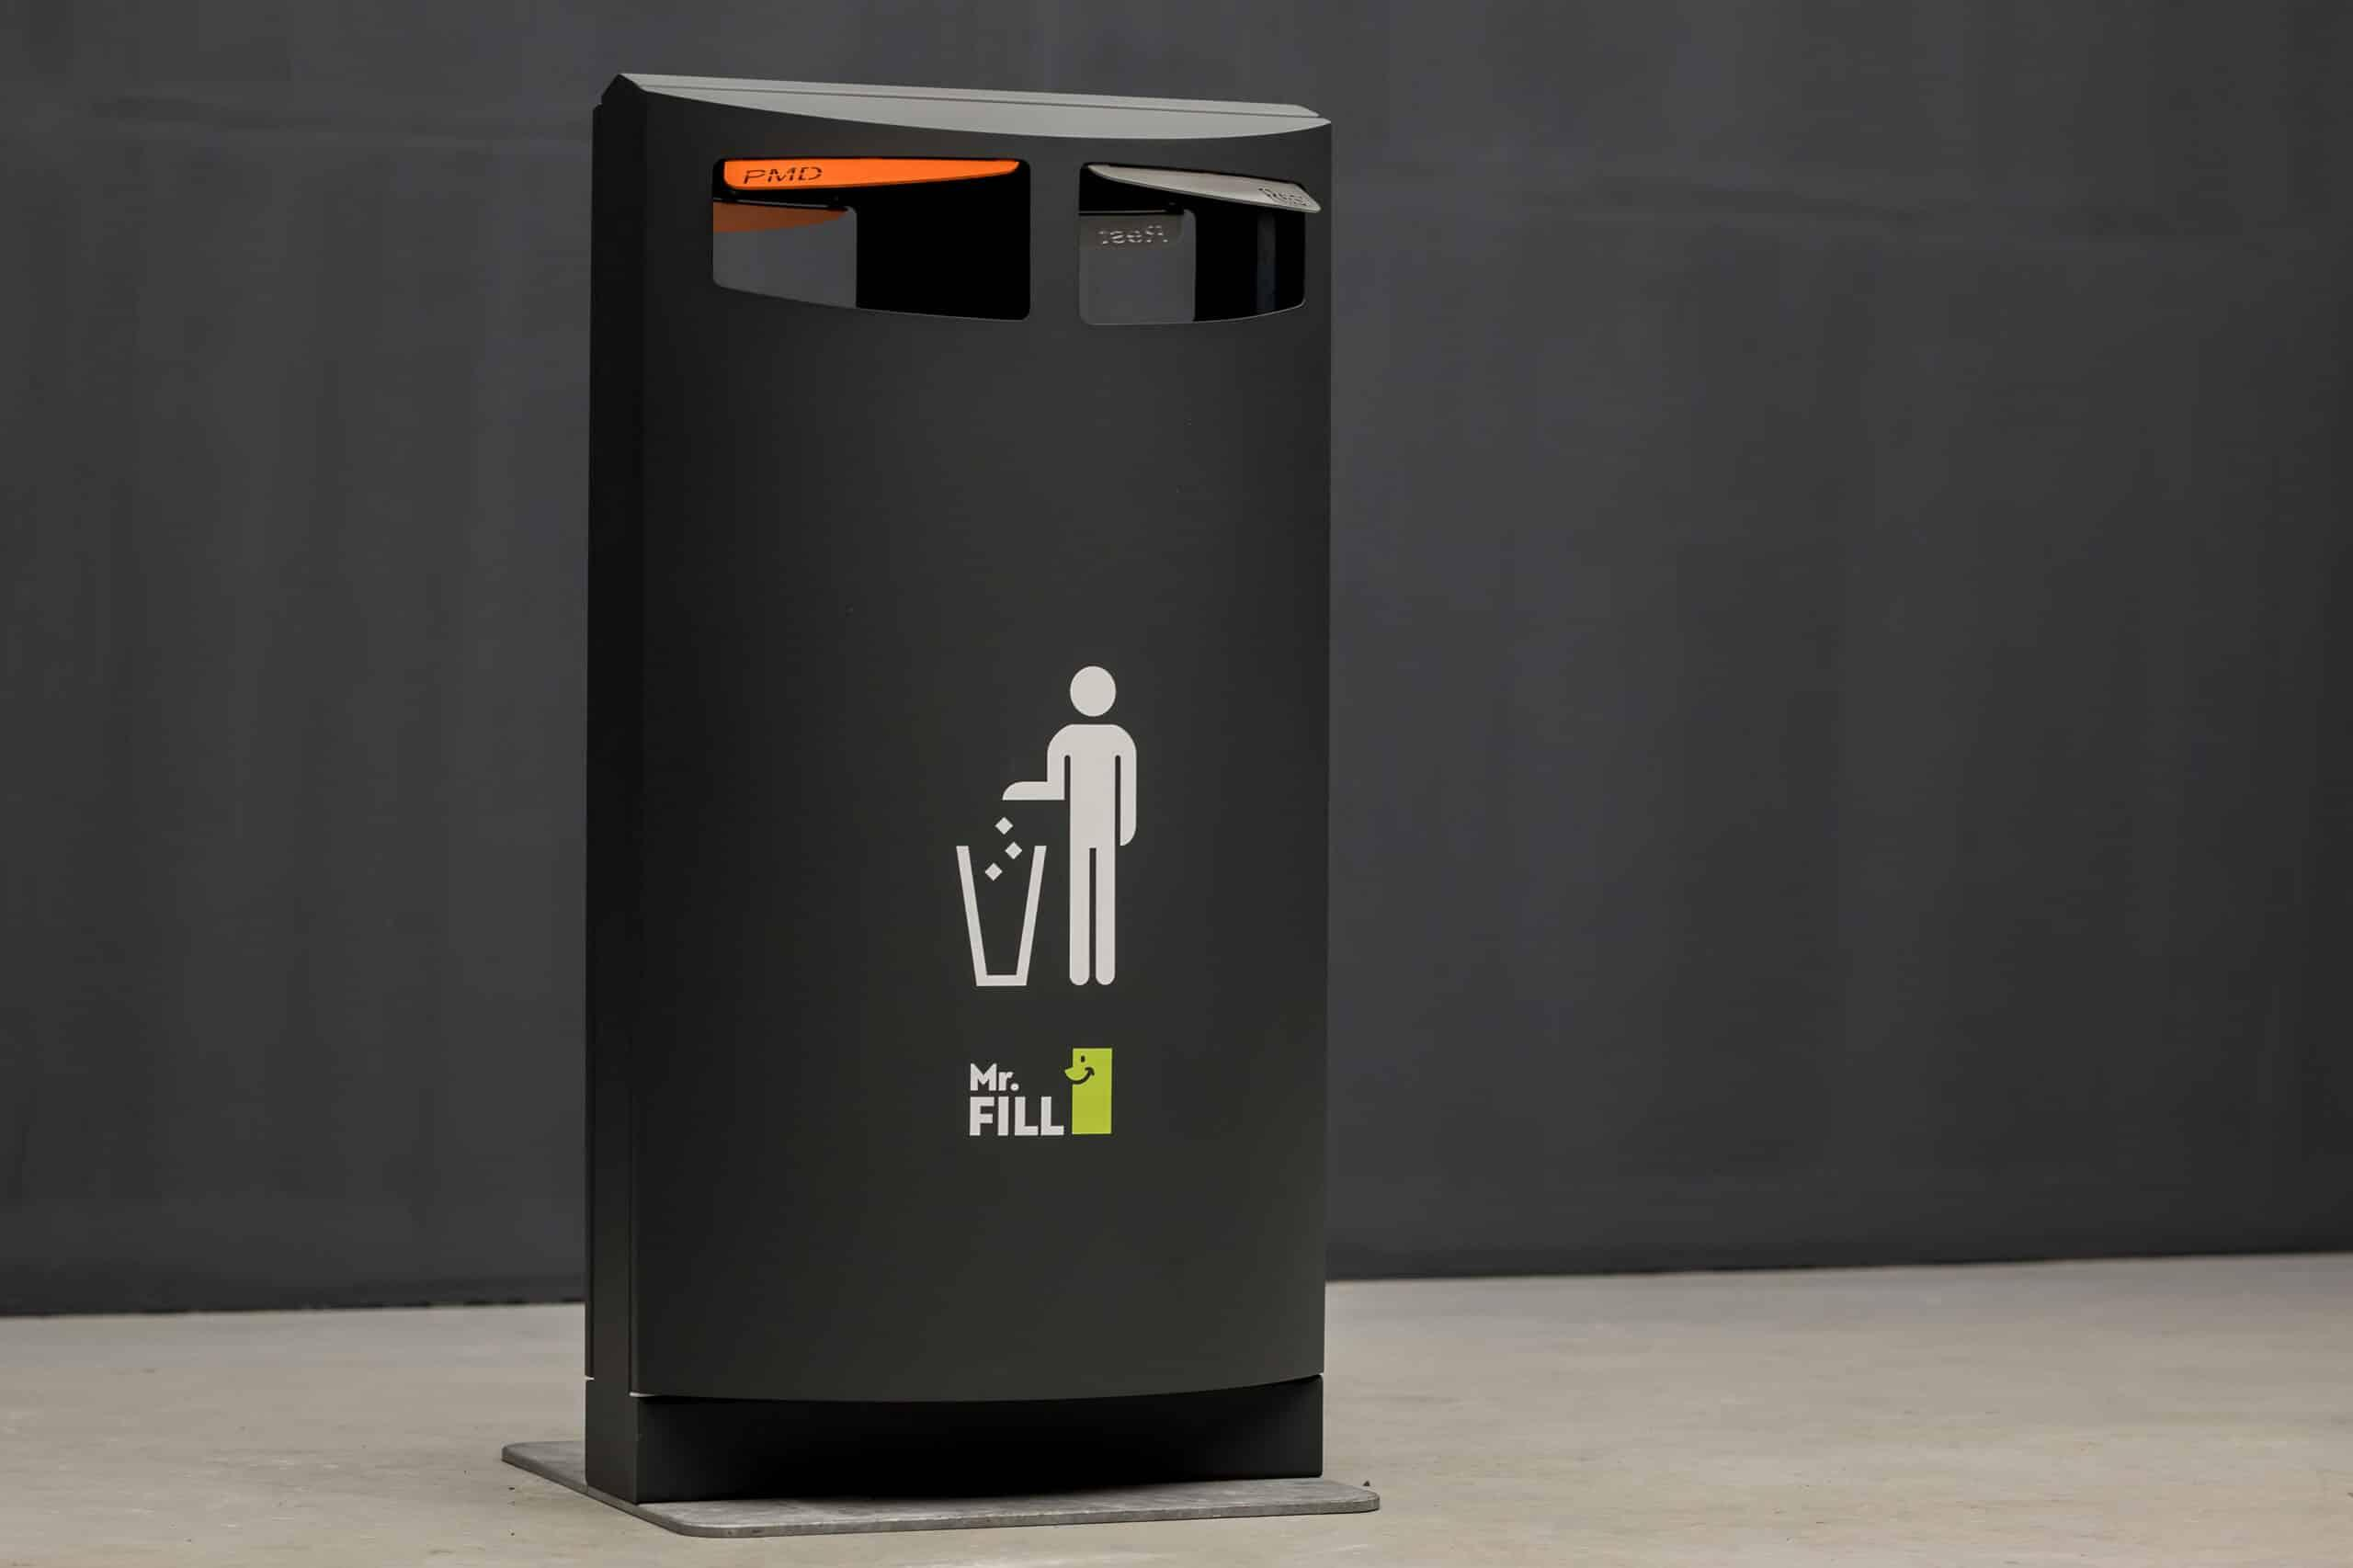trash bin: (490, 63, 1400, 1540)
